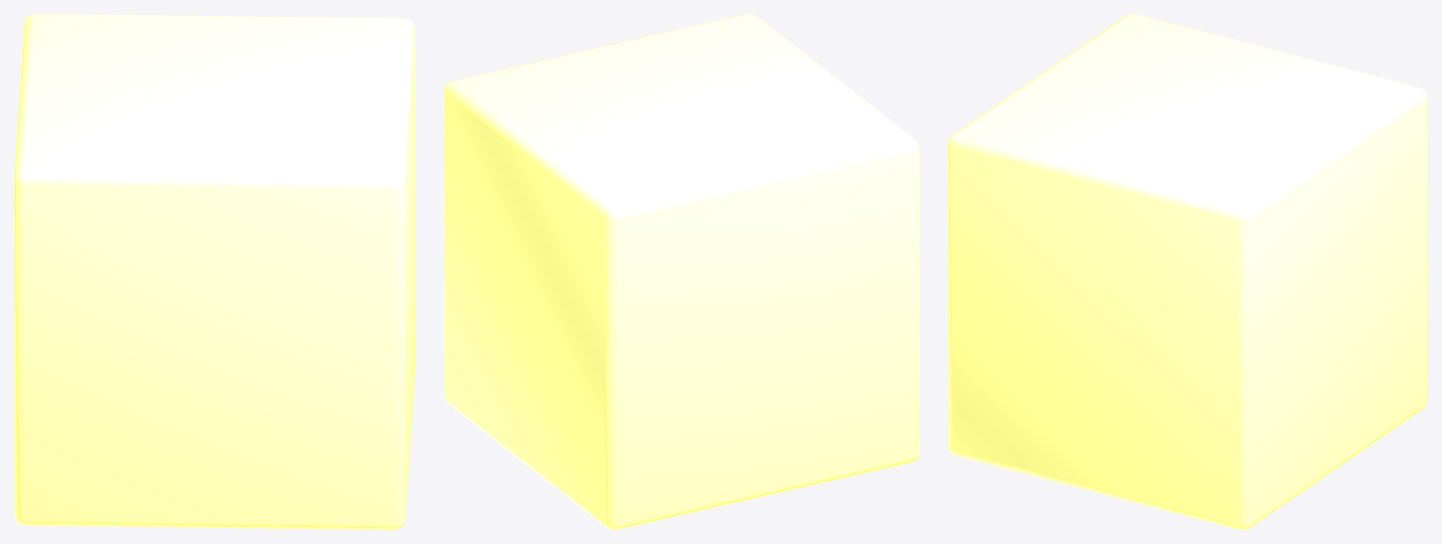
The picture shows the model from 3 angles, left to right: view 1: azimuth 30°, elevation 25°; view 2: azimuth 150°, elevation 25°; view 3: azimuth 270°, elevation 25°; orthographic projection. The views are drawn at different scales.
Visible parts, largest first — view 1: Cube; view 2: Cube; view 3: Cube.
Boxes of the visible parts, left/top/right/bottom form: Cube: left=14, top=14, right=415, bottom=529; Cube: left=444, top=14, right=919, bottom=529; Cube: left=948, top=14, right=1427, bottom=529.
Bounding box in the file's own units: 1.44 × 1.07 × 1.44.
